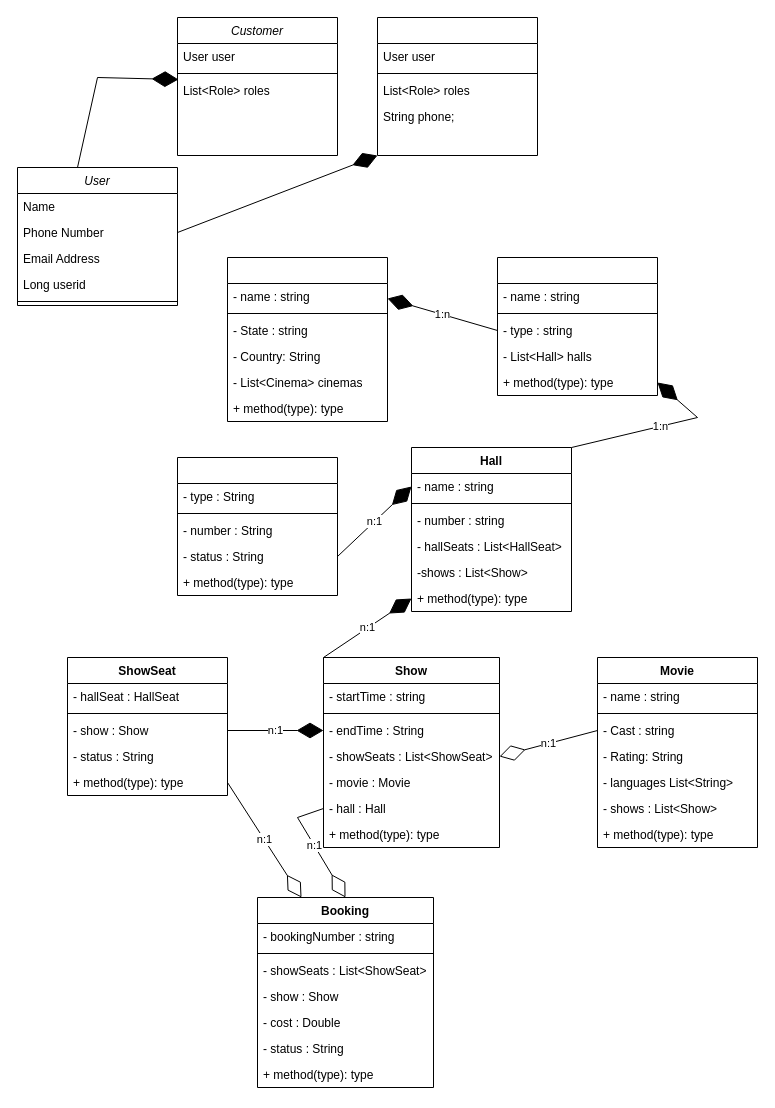
This 775x1108 diagram has some shape labels left out. The shapes that lost their labels are listed below. From the top down, each one's box as (x1, y1, x2, y2) in pixels, then its label:
(376, 16, 538, 156): Admin
(226, 256, 388, 422): City
(496, 256, 658, 396): Cinema
(176, 456, 338, 596): HallSeat
